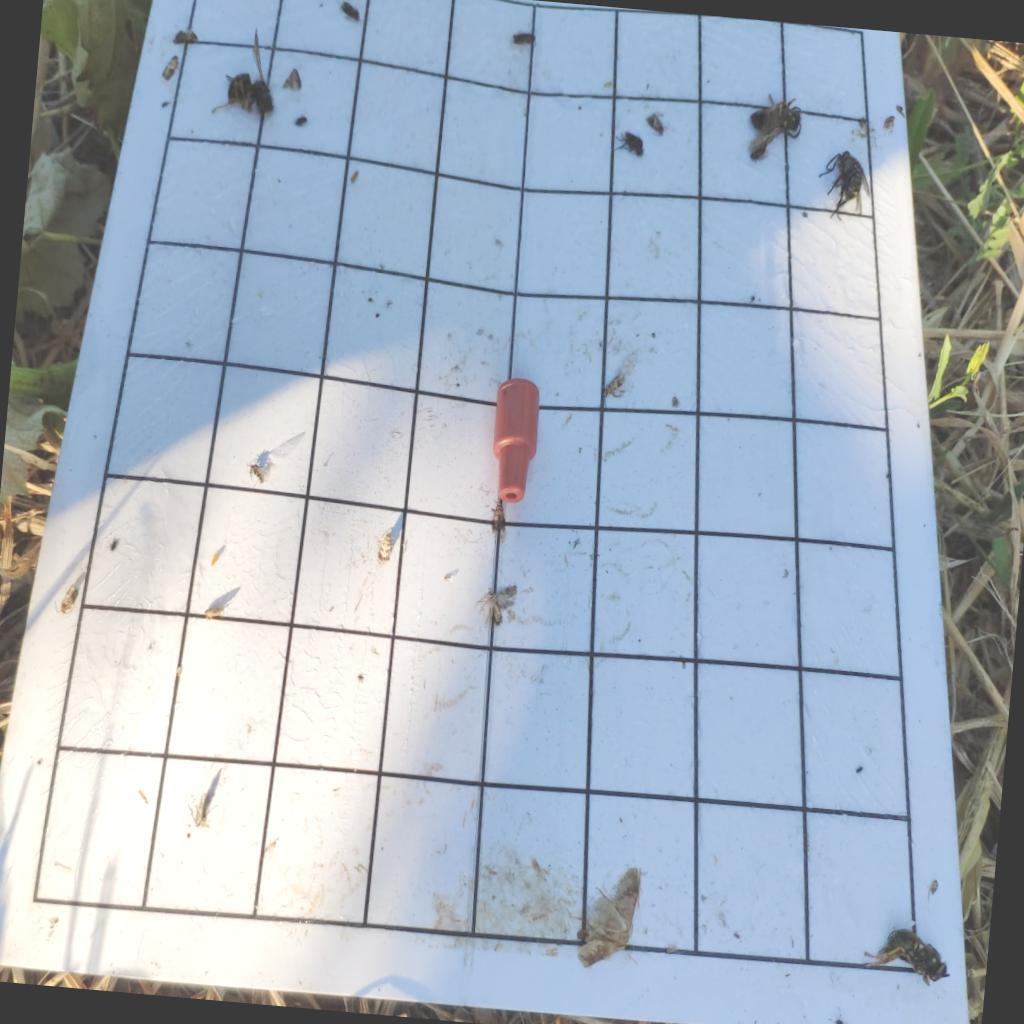grape_moth: (474, 577, 519, 631), (184, 790, 221, 829), (601, 370, 629, 411), (52, 580, 80, 616), (373, 528, 395, 570), (642, 108, 672, 138), (487, 496, 509, 534), (279, 64, 306, 94), (159, 50, 180, 82), (171, 26, 200, 47), (202, 602, 226, 624)
